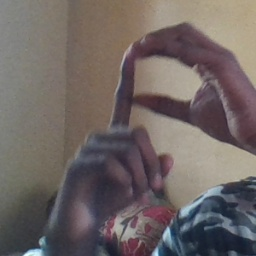P: (78, 22, 229, 189)
